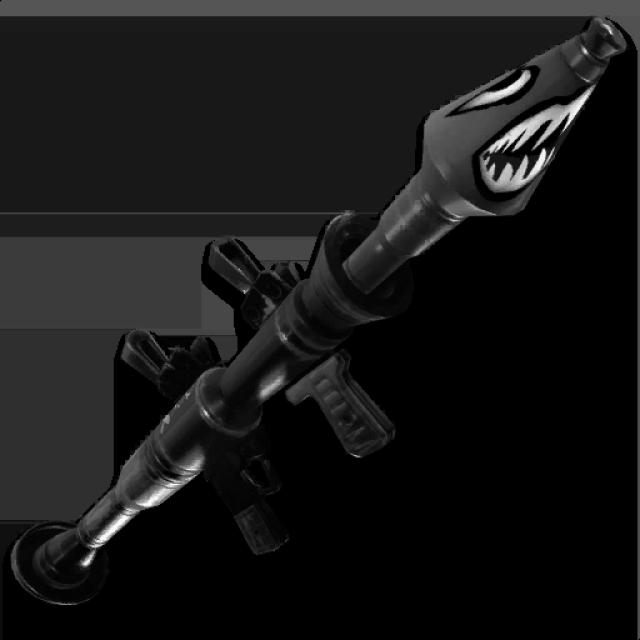Lancher: (25, 16, 611, 616)
